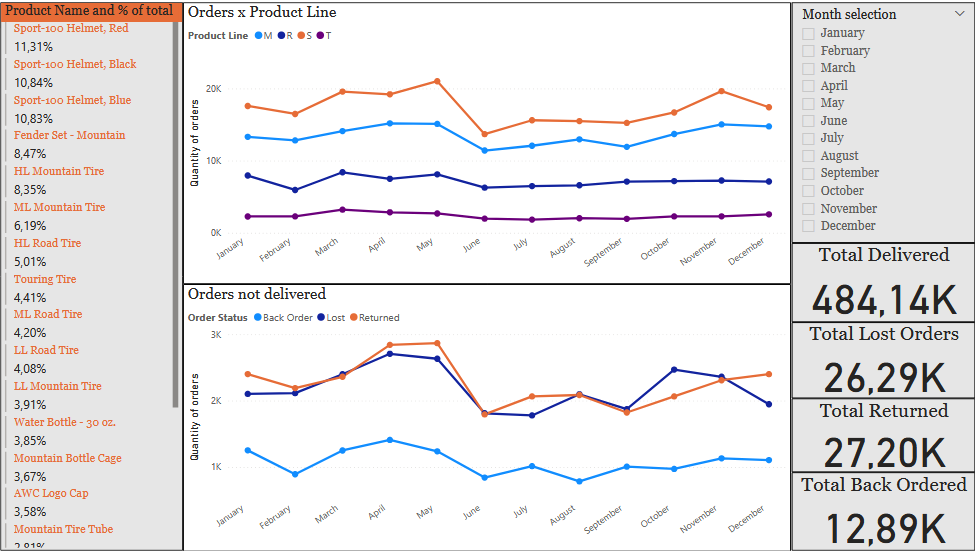

Layout of this report page (visuals, bound fields, positions):
{"tool":"powerbi","page":{"name":"Sales Dashboard","canvas":[1280,720],"ordinal":0},"visuals":[{"type":"lineChart","title":"Orders x Product Line","fields":{"Category":["Sales2020.OrderDate.Variation.Date Hierarchy.Month"],"Y":["Sum(Sales2020.LineTotal)"],"Series":["Sales2020.ProductLine"]},"box":[240,0,798.3,370],"z":0},{"type":"lineChart","title":"Orders not delivered","fields":{"Category":["Sales2020.OrderDate.Variation.Date Hierarchy.Month"],"Y":["Sum(Sales2020.LineTotal)"],"Series":["OrderStatus.Order Status"]},"box":[240.2,369.6,797.9,351.1],"z":1000},{"type":"multiRowCard","title":"Product Name and % of total","fields":{"Values":["Sales2020.ProductName","Sum(Sales2020.LineTotal)"]},"box":[0,0,240,720],"z":3000},{"type":"card","title":"Total Delivered","fields":{"Values":["Sum(Sales2020.LineTotal)"]},"box":[1038.6,315.7,241.4,104.3],"z":4000},{"type":"card","title":"Total Lost Orders","fields":{"Values":["Sum(Sales2020.LineTotal)"]},"box":[1038.6,420,241.4,100],"z":5000},{"type":"card","title":"Total Returned","fields":{"Values":["Sum(Sales2020.LineTotal)"]},"box":[1038.6,520,241.4,97.1],"z":6000},{"type":"card","title":"Total Back Ordered","fields":{"Values":["Sum(Sales2020.LineTotal)"]},"box":[1038.6,617.1,241.4,102.9],"z":7000},{"type":"slicer","fields":{"Values":["Sales2020.OrderDate.Variation.Date Hierarchy.Month"]},"box":[1038.6,0,241.4,315.7],"z":8000}]}

Visuals, with their boxes in screenshot pixels (x1, y1, x2, y2), scaled from the page's 1280x720 canvas onto the 975x551 screenshot:
"Orders x Product Line" lineChart: (left=183, top=0, right=791, bottom=283)
"Orders not delivered" lineChart: (left=183, top=283, right=791, bottom=550)
"Product Name and % of total" multiRowCard: (left=0, top=0, right=183, bottom=550)
"Total Delivered" card: (left=791, top=242, right=974, bottom=321)
"Total Lost Orders" card: (left=791, top=321, right=974, bottom=398)
"Total Returned" card: (left=791, top=398, right=974, bottom=472)
"Total Back Ordered" card: (left=791, top=472, right=974, bottom=550)
slicer - Sales2020.OrderDate.Variation.Date Hierarchy.Month: (left=791, top=0, right=974, bottom=242)
